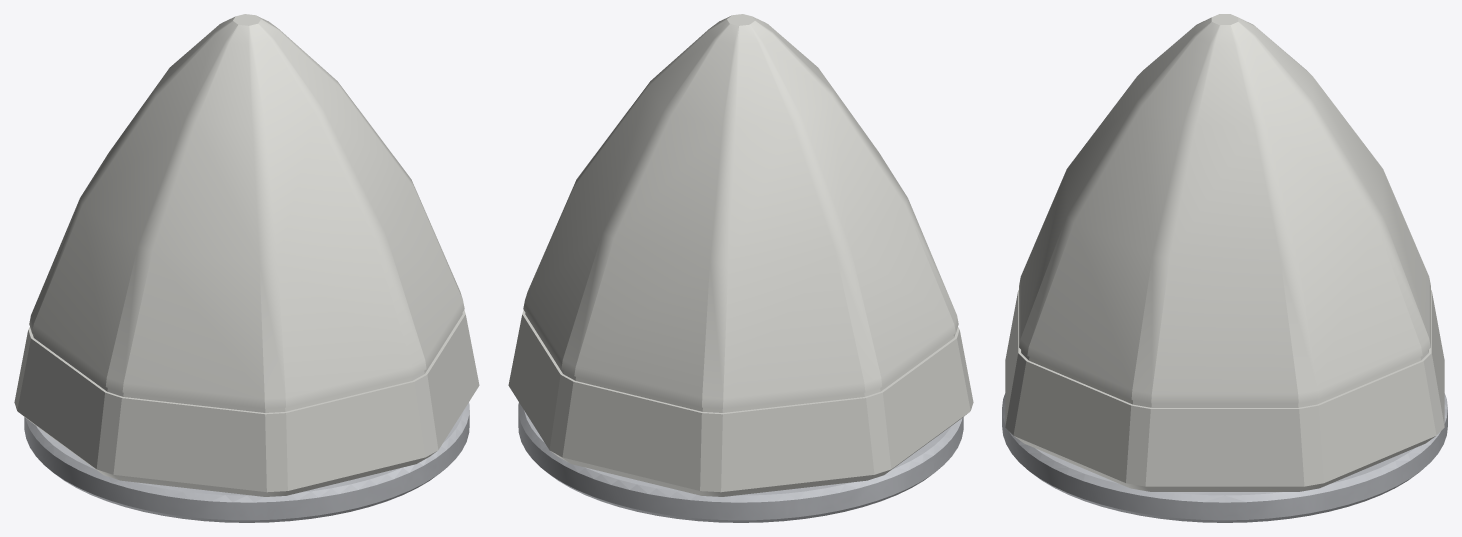
The model's file is ax_struct_13_nose_cone_s.glb.
3 renders of one model, left to right at view 1: azimuth 30°, elevation 25°; view 2: azimuth 150°, elevation 25°; view 3: azimuth 270°, elevation 25°, orthographic.
Parts seen in each view (by area): view 1: nose_shell, base_ring; view 2: nose_shell, base_ring; view 3: nose_shell, base_ring.
Part boxes in pixels (x1=…): nose_shell: x1=14, y1=14, x2=479, y2=496; base_ring: x1=24, y1=402, x2=469, y2=522; nose_shell: x1=508, y1=14, x2=973, y2=496; base_ring: x1=518, y1=402, x2=963, y2=522; nose_shell: x1=1005, y1=14, x2=1444, y2=491; base_ring: x1=1002, y1=393, x2=1447, y2=522.
Size of the model in its own units: 1.25 by 1.27 by 1.25.
2 materials, 1 textured.
